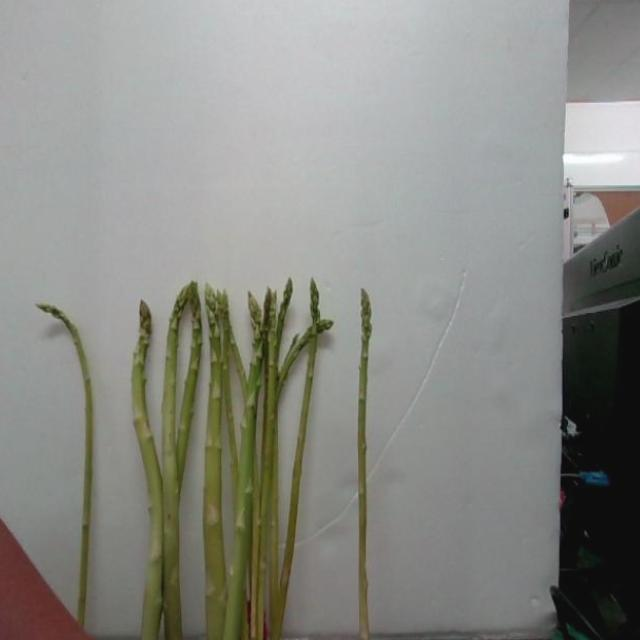aspargus: (33, 303, 95, 629), (357, 291, 374, 640)
